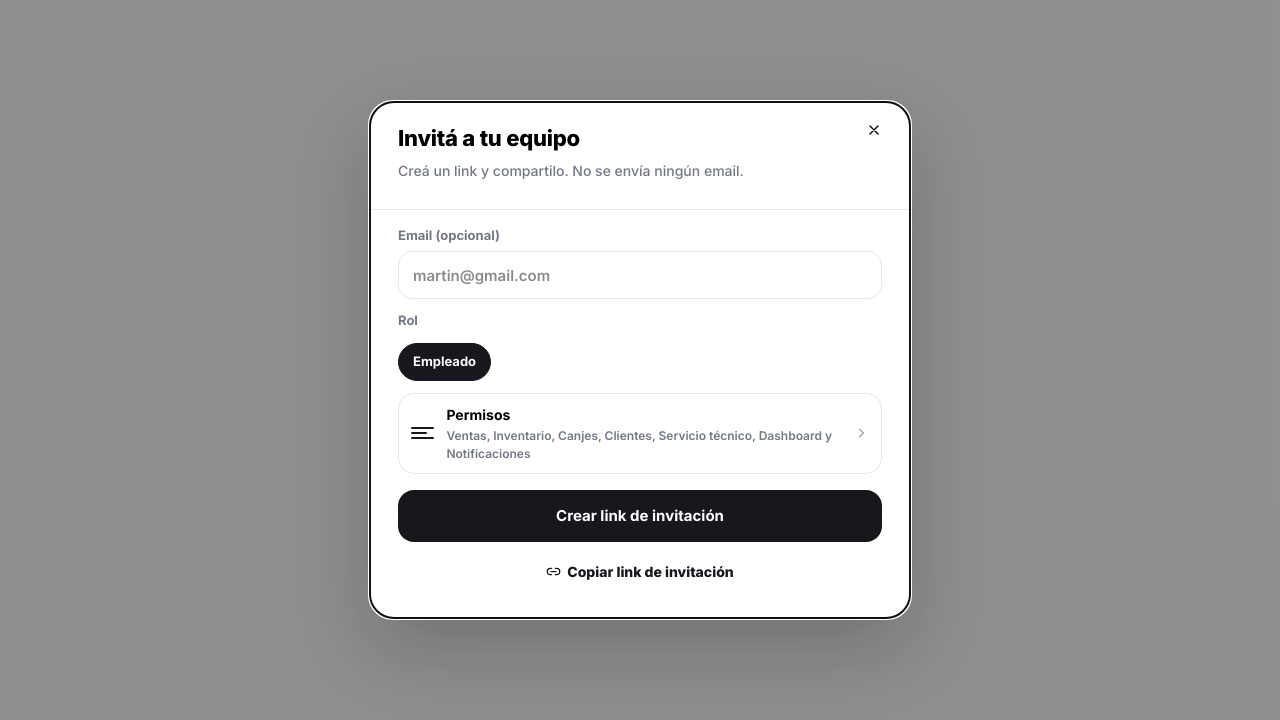
link invitations › lets a Socio invite only as Empleado, without requiring email or claiming to send it
The width and height of the screenshot is (1280, 720).
Expected: the button "Empleado" is shown, [398,343,491,381]
Click the button with test id "invite-send" at (640, 516), box [398,490,882,542]
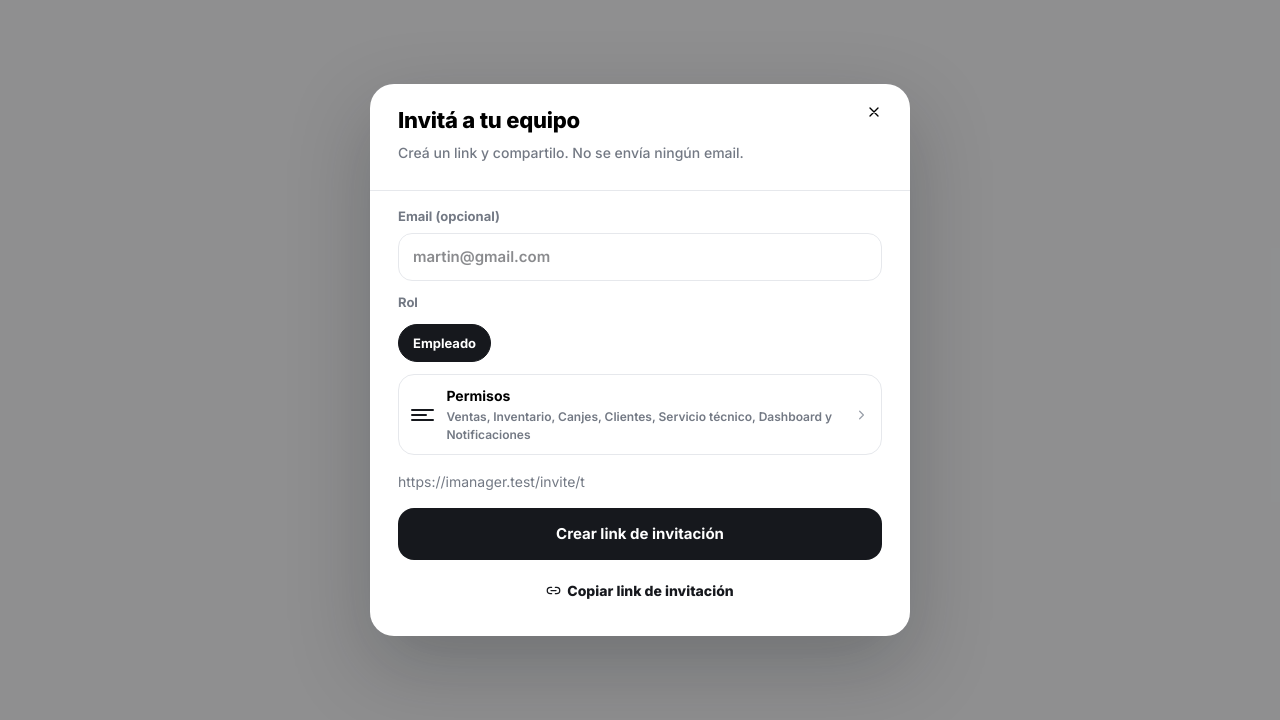
Result: the text with test id "invite-url" reads "https://imanager.test/invite/t" at [398,473,585,490]
